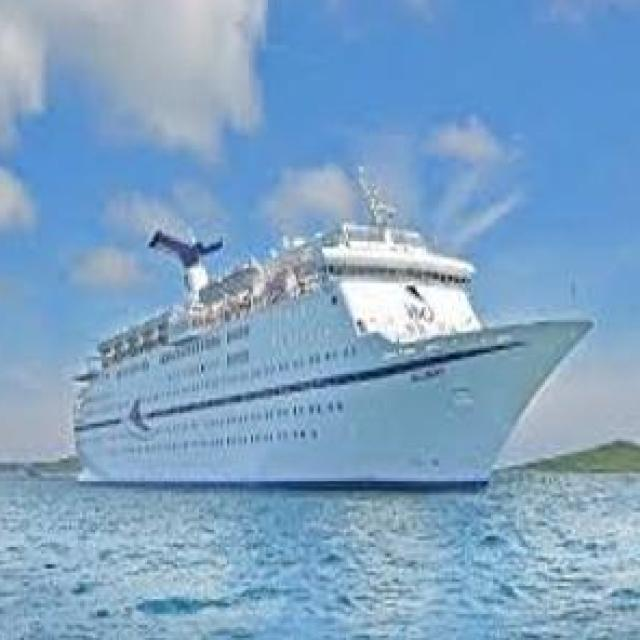passenger ship: (70, 201, 594, 488)
